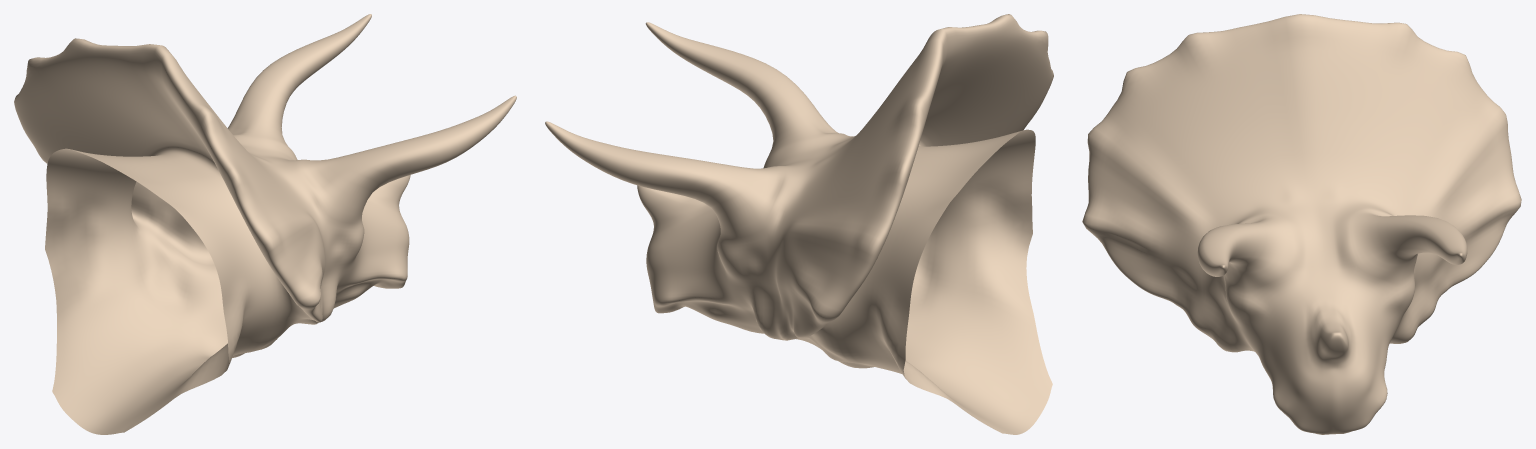
The model's file is dino-head.fbx.
The picture shows the model from 3 angles, left to right: view 1: azimuth 30°, elevation 25°; view 2: azimuth 150°, elevation 25°; view 3: azimuth 270°, elevation 25°; orthographic projection. The views are drawn at different scales.
Visible parts, largest first — view 1: 10707_Triceratops_v2.001; view 2: 10707_Triceratops_v2.001; view 3: 10707_Triceratops_v2.001.
Boxes of the visible parts, left/top/right/bottom form: 10707_Triceratops_v2.001: left=14, top=14, right=516, bottom=434; 10707_Triceratops_v2.001: left=545, top=14, right=1053, bottom=434; 10707_Triceratops_v2.001: left=1082, top=14, right=1521, bottom=434.
Bounding box in the file's own units: 264 × 227 × 253.
